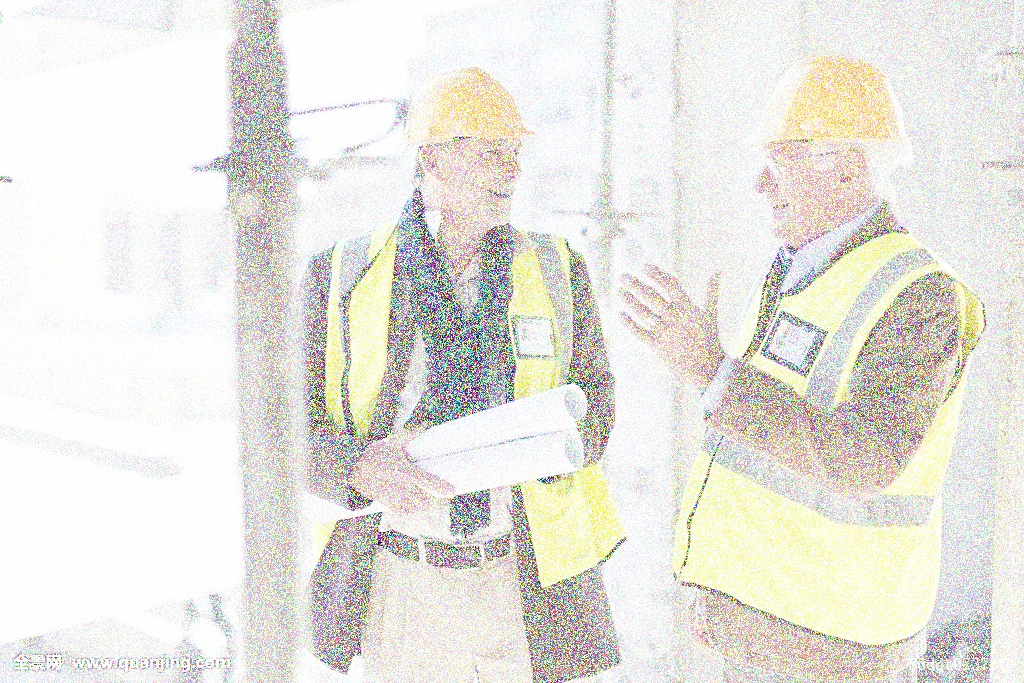helmet: (738, 50, 913, 226), (401, 63, 544, 228)
vest: (656, 231, 994, 625), (289, 220, 620, 585)
